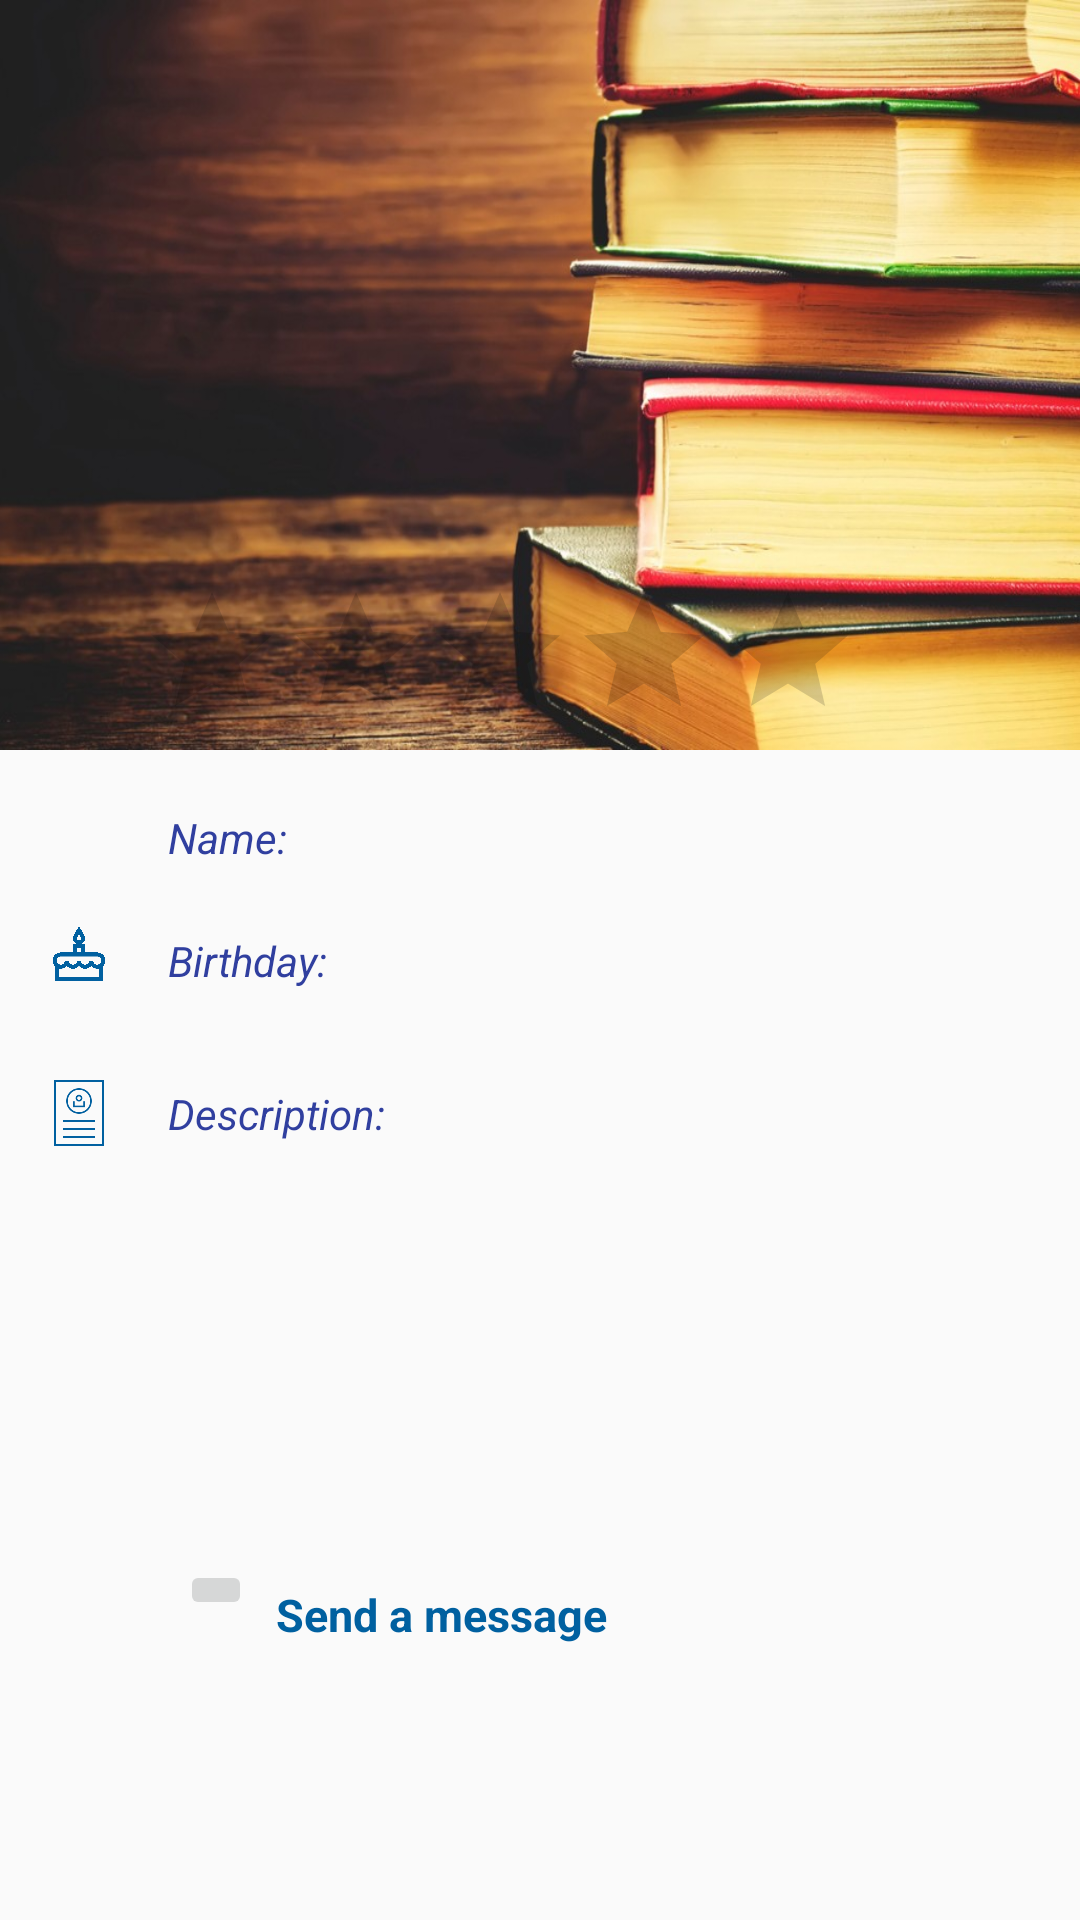

Icon bounding boxes for this 1080 x 1920 phone screenshot, format [x1, y1, x2, y2]:
bio: [54, 1080, 104, 1146]
